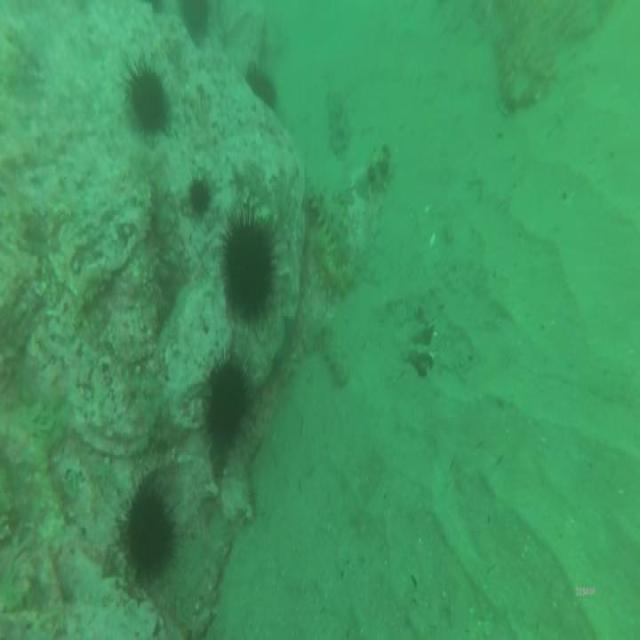echinus: (111, 482, 181, 591), (217, 204, 278, 327), (199, 349, 255, 458), (122, 58, 172, 144), (242, 58, 280, 117), (178, 0, 212, 49), (186, 172, 213, 221)
holothurian: (219, 357, 294, 484), (172, 547, 235, 640), (494, 28, 556, 114), (302, 177, 356, 275), (303, 218, 352, 305), (314, 319, 354, 392), (324, 85, 354, 158)
